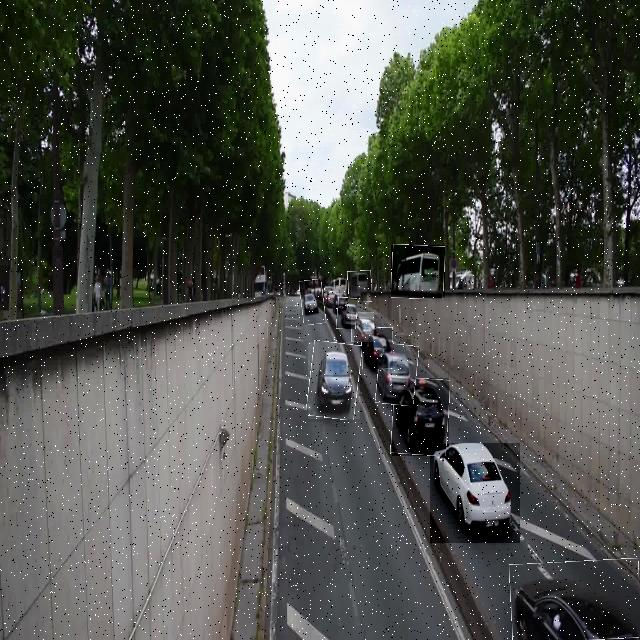Bus: (391, 245, 445, 298), (347, 271, 372, 302)
Car: (510, 559, 640, 640), (430, 444, 520, 544), (392, 378, 449, 456), (308, 342, 361, 419), (376, 344, 418, 405), (362, 328, 393, 369), (300, 279, 325, 325), (351, 312, 374, 342), (336, 298, 357, 329)
